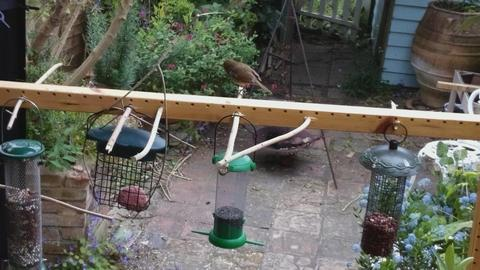robin: (220, 59, 272, 94)
